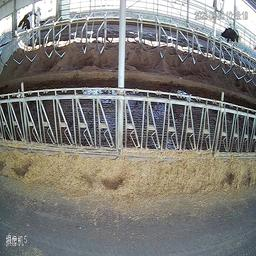cow: (220, 21, 239, 50), (23, 8, 43, 35)
